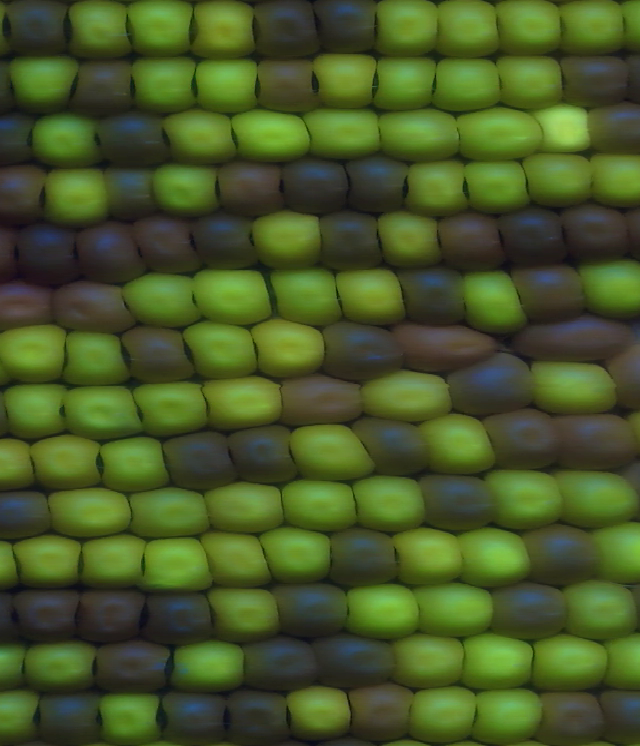fluorescent: (530, 355, 614, 416), (288, 421, 371, 480), (493, 467, 565, 532), (532, 634, 608, 695), (458, 105, 539, 162), (48, 488, 135, 541), (195, 268, 276, 324), (425, 412, 493, 477), (362, 373, 452, 422), (392, 634, 469, 691), (559, 471, 640, 525), (158, 110, 235, 166), (398, 525, 465, 589), (188, 323, 258, 384), (282, 477, 359, 532), (64, 383, 142, 437), (464, 631, 533, 692), (563, 582, 635, 640), (435, 54, 503, 115), (463, 268, 523, 337), (205, 482, 283, 535), (356, 476, 427, 534), (417, 585, 493, 639), (143, 536, 213, 594), (25, 640, 97, 696), (133, 487, 209, 540), (234, 108, 311, 160), (381, 110, 458, 162), (377, 210, 444, 269), (271, 269, 338, 328), (345, 584, 415, 640), (334, 269, 405, 324), (134, 55, 198, 116), (306, 108, 384, 158), (268, 528, 334, 587), (253, 211, 322, 267), (137, 381, 206, 437), (99, 436, 168, 492), (33, 437, 103, 492), (203, 377, 277, 429), (63, 322, 126, 383), (437, 2, 503, 60), (0, 326, 67, 383), (255, 321, 324, 376), (126, 273, 195, 327), (193, 1, 254, 62), (473, 691, 544, 743), (11, 54, 78, 109), (169, 640, 241, 691), (406, 159, 468, 218), (529, 152, 595, 207), (462, 530, 528, 585), (580, 257, 640, 317), (129, 2, 193, 58), (205, 532, 273, 584), (374, 55, 436, 112), (412, 688, 475, 744), (29, 114, 98, 165), (213, 586, 278, 640), (43, 171, 106, 225), (195, 62, 263, 112), (465, 162, 533, 212), (498, 55, 561, 108), (83, 533, 147, 585), (153, 162, 213, 217), (497, 3, 559, 56), (559, 4, 623, 55), (4, 383, 64, 437), (17, 542, 87, 588), (289, 688, 352, 739), (377, 2, 437, 55), (98, 691, 164, 739), (316, 54, 376, 106), (71, 6, 133, 56), (593, 522, 640, 582), (538, 107, 595, 156), (591, 155, 640, 211), (0, 690, 38, 742), (609, 635, 640, 692), (0, 440, 35, 490)
nonfluorescent: (451, 350, 533, 413), (283, 373, 369, 430), (486, 582, 570, 640), (398, 322, 498, 369), (558, 410, 636, 470), (515, 319, 633, 358), (161, 432, 236, 492), (322, 321, 398, 380), (488, 406, 558, 469), (240, 637, 317, 694), (143, 588, 214, 649), (327, 528, 397, 589), (515, 262, 587, 321), (16, 224, 81, 288), (363, 419, 429, 482), (75, 587, 146, 645), (423, 474, 493, 532), (563, 200, 629, 261), (274, 583, 347, 638), (98, 109, 166, 168), (3, 1, 74, 57), (317, 633, 388, 689), (217, 157, 283, 217), (52, 282, 128, 334), (125, 327, 193, 384), (278, 157, 348, 212), (320, 210, 382, 271), (441, 211, 501, 274), (95, 642, 173, 690), (230, 425, 297, 480), (12, 586, 79, 641), (403, 266, 463, 327), (527, 526, 592, 582), (563, 54, 629, 109), (73, 54, 133, 114), (255, 56, 316, 114), (348, 682, 408, 740), (80, 222, 138, 282), (193, 213, 253, 270), (255, 1, 317, 56), (224, 688, 287, 741), (136, 217, 197, 271), (503, 207, 564, 261), (313, 1, 377, 52), (538, 692, 602, 741), (34, 691, 95, 741), (163, 693, 227, 740), (348, 157, 403, 211), (0, 277, 53, 333), (0, 162, 43, 224), (103, 168, 157, 217), (0, 490, 52, 539), (588, 106, 640, 153), (602, 689, 640, 743), (0, 118, 33, 167)
